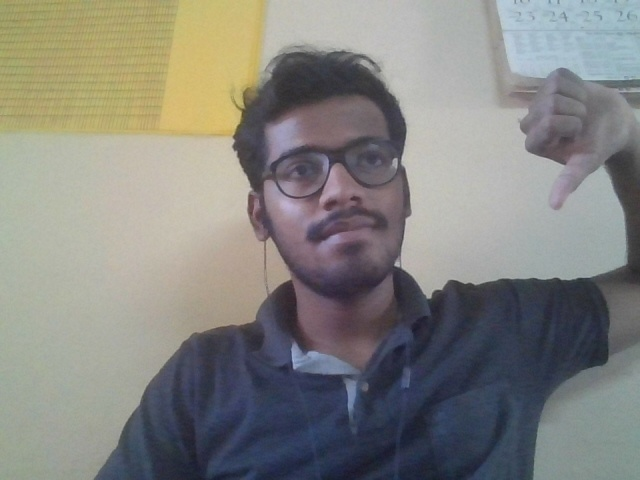ThumbsDown: (516, 67, 627, 211)
